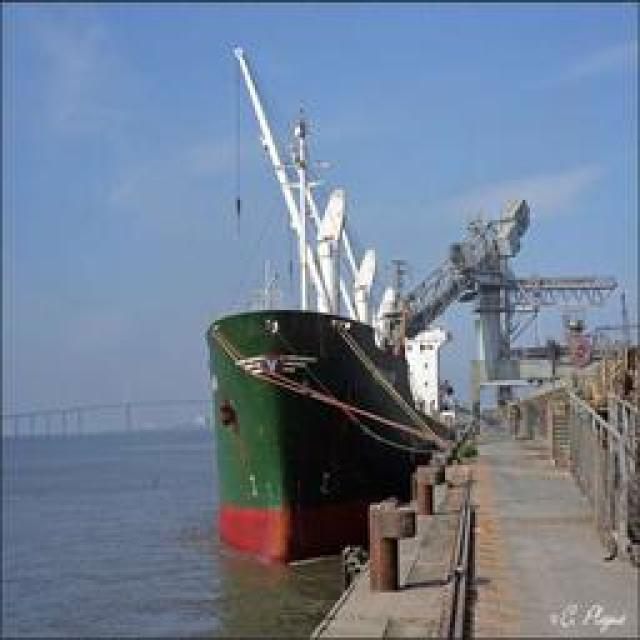CIV_Ship: (202, 41, 522, 571)
